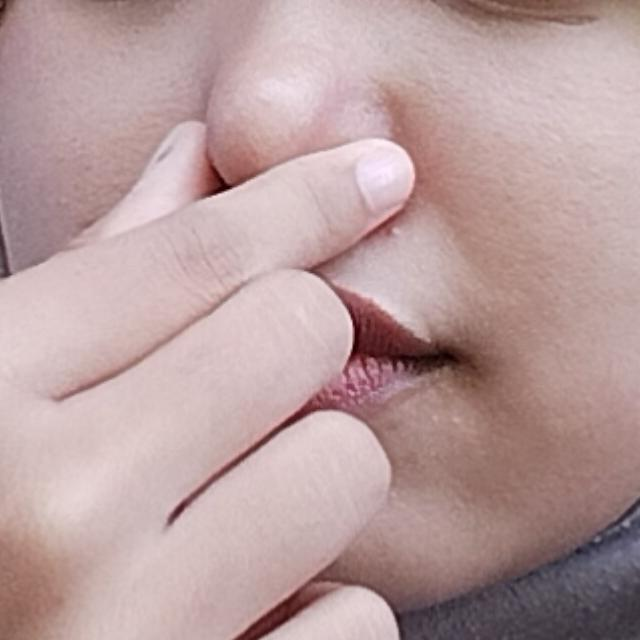bau: (0, 98, 576, 640)
